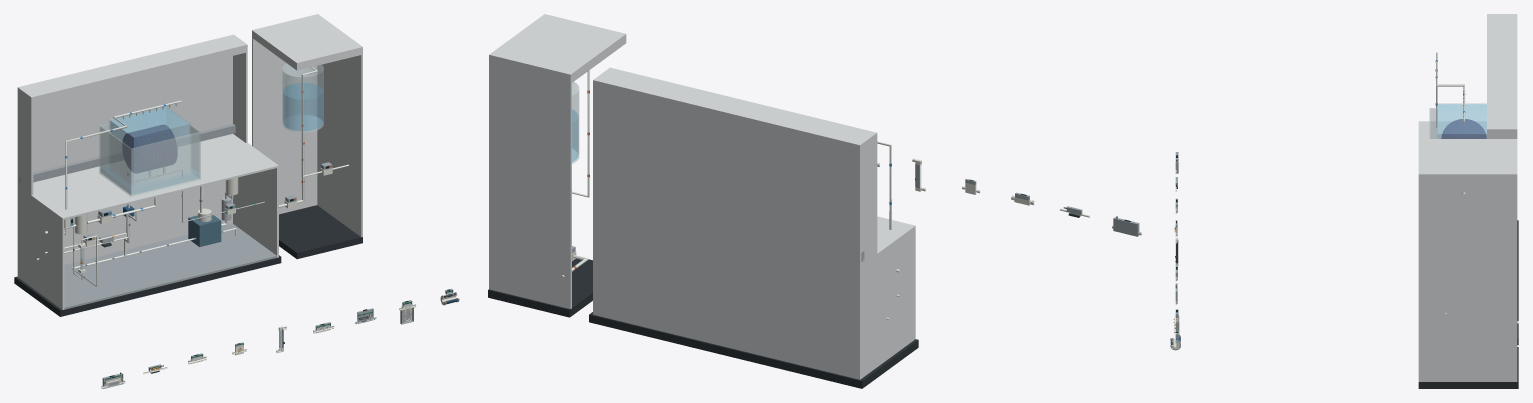
Rendered from flowmeters.glb.
The picture shows the model from 3 angles, left to right: view 1: azimuth 30°, elevation 25°; view 2: azimuth 150°, elevation 25°; view 3: azimuth 270°, elevation 25°; orthographic projection. The views are drawn at different scales.
Parts seen in each view (by area): view 1: b_back__panel, b_deck__panel, c_back__panel, b_floor__panel_grey, c_side__panel, b_tank_out__pfa_clear, b_hood__panel, b_side-0.9__panel, c_top__panel, b_tank_in__quartz, b_side0.885__panel, c_plinth__plinth (+12 smaller); view 2: b_back__panel, c_back__panel, b_hood__panel, b_side-0.9__panel, c_top__panel, b_plinth__plinth, b_post-0.9__panel, c_plinth__plinth, b_deck__panel, c_tank__pfa_clear; view 3: c_side__panel, b_hood__panel, c_top__panel, b_tank_in__quartz, b_water__water, c_plinth__plinth, b_wafers__wafer, c_back__panel, b_deck__panel.
Part boxes in pixels (box(x1,y1,x2,y2)): b_back__panel: box(17, 56, 232, 277); b_deck__panel: box(17, 134, 278, 219); c_back__panel: box(252, 33, 317, 214); b_floor__panel_grey: box(64, 224, 276, 309); c_side__panel: box(317, 48, 362, 237); b_tank_out__pfa_clear: box(99, 123, 200, 196); b_hood__panel: box(17, 34, 247, 104); b_side-0.9__panel: box(17, 187, 64, 309); c_top__panel: box(252, 14, 362, 70); b_tank_in__quartz: box(109, 106, 190, 179); b_side0.885__panel: box(233, 143, 278, 257); c_plinth__plinth: box(279, 205, 362, 259); b_back__panel: box(593, 82, 861, 379); c_back__panel: box(489, 56, 571, 308); b_hood__panel: box(593, 67, 877, 154); b_side-0.9__panel: box(858, 225, 915, 378); c_top__panel: box(489, 14, 626, 83); b_plinth__plinth: box(589, 312, 918, 388); b_post-0.9__panel: box(858, 142, 877, 266); c_plinth__plinth: box(488, 258, 592, 317); b_deck__panel: box(594, 201, 915, 268); c_tank__pfa_clear: box(572, 82, 579, 163); c_side__panel: box(1418, 175, 1517, 381); b_hood__panel: box(1487, 14, 1517, 137); c_top__panel: box(1418, 139, 1517, 182); b_tank_in__quartz: box(1437, 103, 1486, 138); b_water__water: box(1438, 104, 1486, 138); c_plinth__plinth: box(1418, 347, 1518, 388); b_wafers__wafer: box(1441, 119, 1486, 138); c_back__panel: box(1515, 175, 1517, 381); b_deck__panel: box(1418, 121, 1486, 138).
Bounding box in the file's own units: 3.12 × 1.56 × 2.3.
